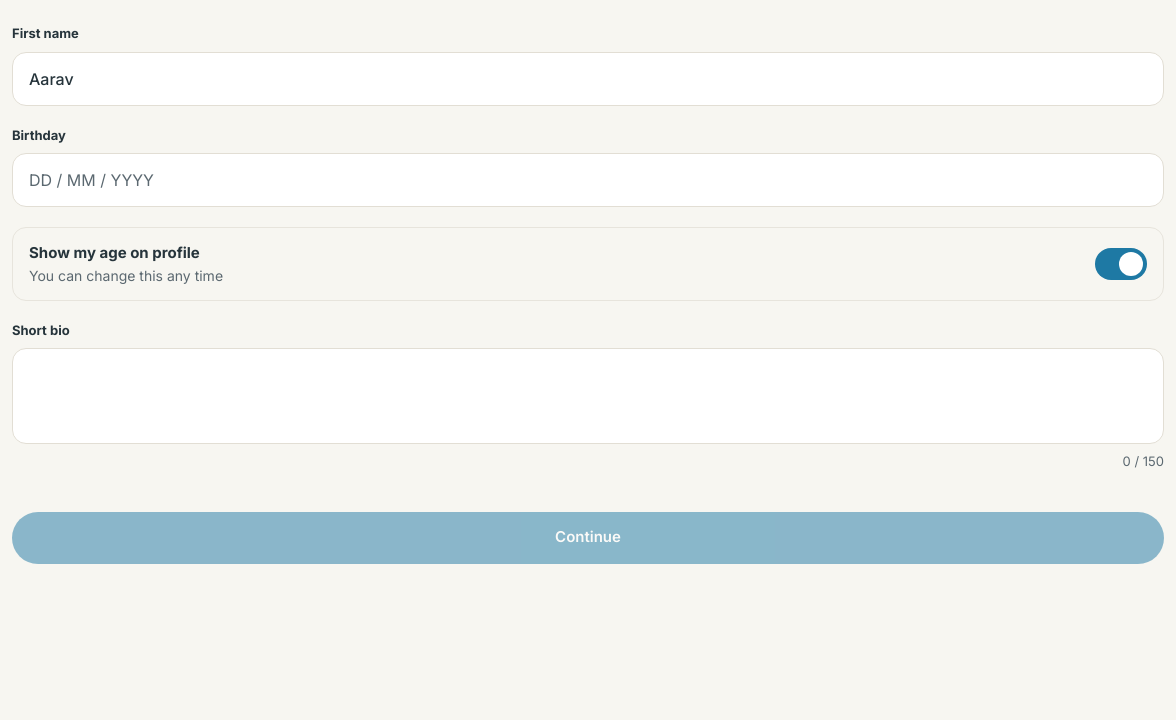
Test: S03 AboutForm › prefills the first name and blocks Continue until a valid birthday; under 18 offers deletion
expect the field labelled "First name" holds "Aarav": met, box left=12, top=52, right=1164, bottom=106
expect the button "Continue" is disabled: met, box left=12, top=512, right=1164, bottom=564
Type "01012015" into the field labelled "Birthday".
click(588, 180); type("01012015")  # box left=12, top=153, right=1164, bottom=207
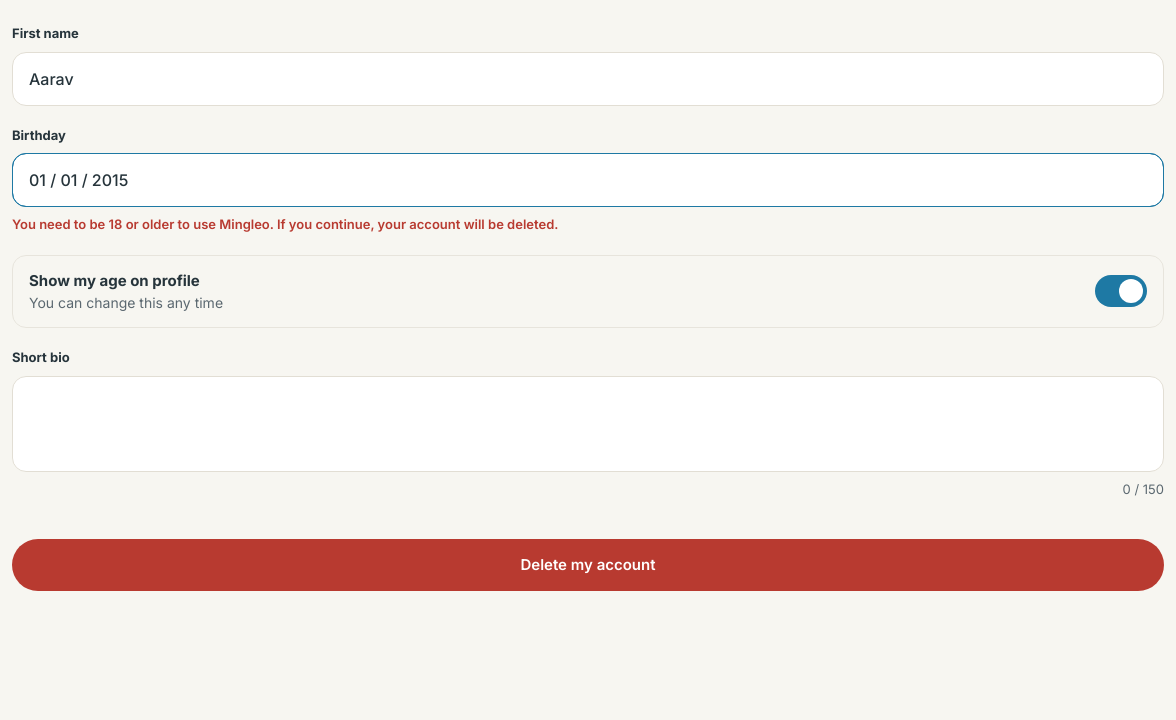
expect the field labelled "Birthday" holds "01 / 01 / 2015": met
expect the text "You need to be 18 or older to use Mingleo. If you continue, your account will be deleted." is shown: met, box left=12, top=216, right=558, bottom=232
expect the button "Delete my account" is enabled: met, box left=12, top=539, right=1164, bottom=591
Replace the text in the field labelled "Birthday" with "01011998" at (588, 180), box left=12, top=153, right=1164, bottom=207
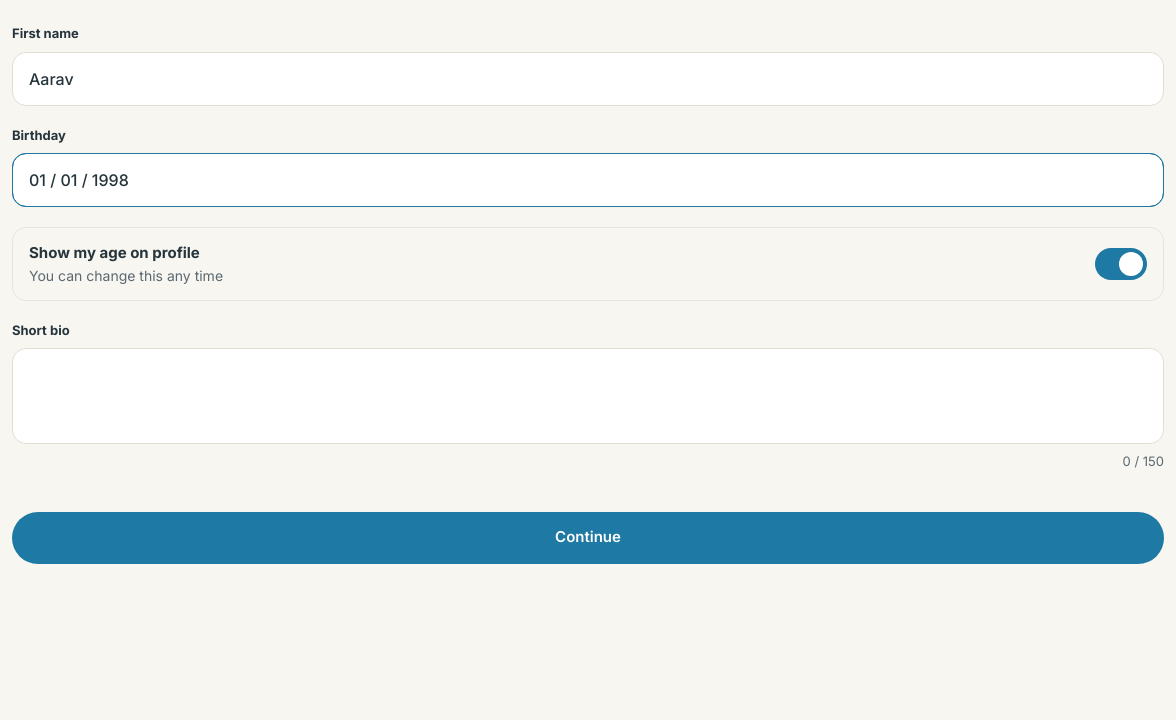
expect the text "18 or older" is not shown: met
expect the button "Continue" is enabled: met, box left=12, top=512, right=1164, bottom=564
